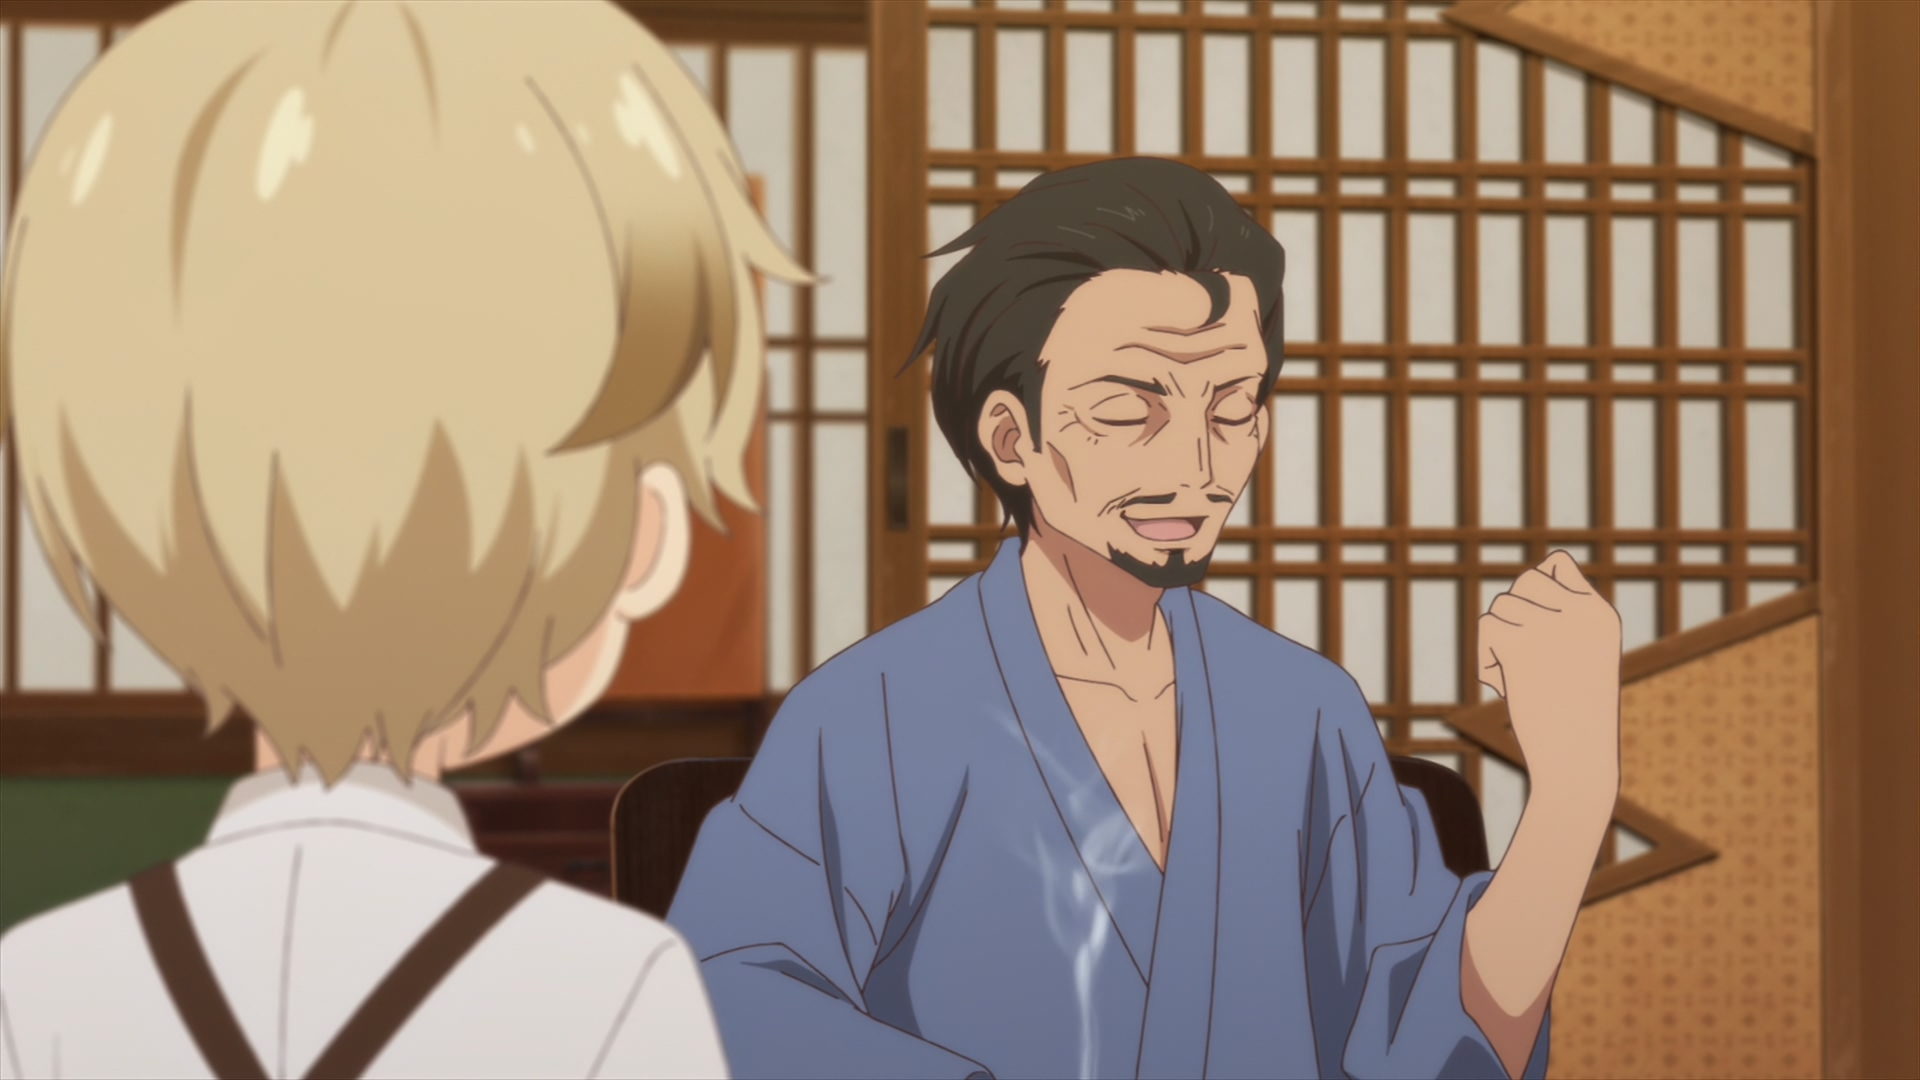其他: (1, 1, 829, 1080), (665, 157, 1621, 1080)
